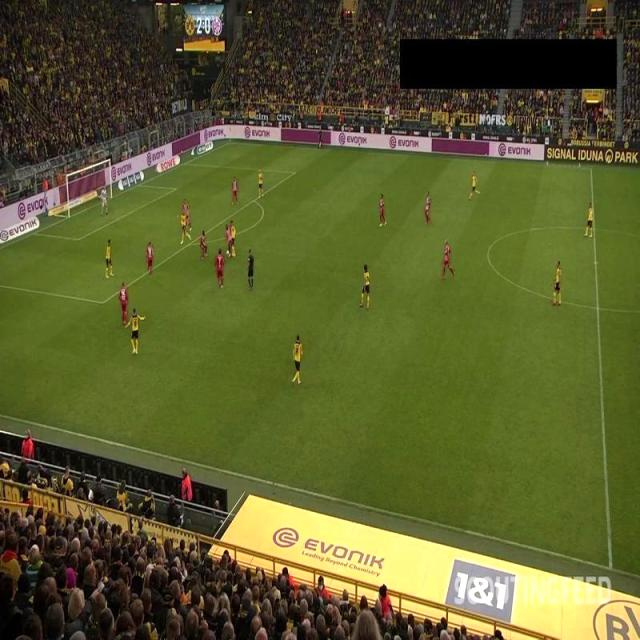bigarea_bottom_inner: (98, 296, 109, 306)
bigarea_top_inner: (289, 166, 300, 177)
bigarea_top_outter: (179, 158, 190, 168)
bottom_arc_area_intersection: (184, 238, 196, 248)
corner: (224, 136, 235, 148)
halfcircle_bottom: (592, 302, 603, 312)
halfcircle_top: (588, 223, 599, 234)
midline_bottom_intersection: (604, 559, 618, 578)
midline_top_intersection: (586, 162, 596, 172)
smallarea_bottom_inner: (74, 233, 85, 244)
smallarea_bottom_outter: (28, 228, 39, 240)
smallarea_top_inner: (170, 182, 180, 194)
smallarea_top_outter: (134, 178, 144, 189)
top_arc_area_intersection: (249, 194, 260, 205)
